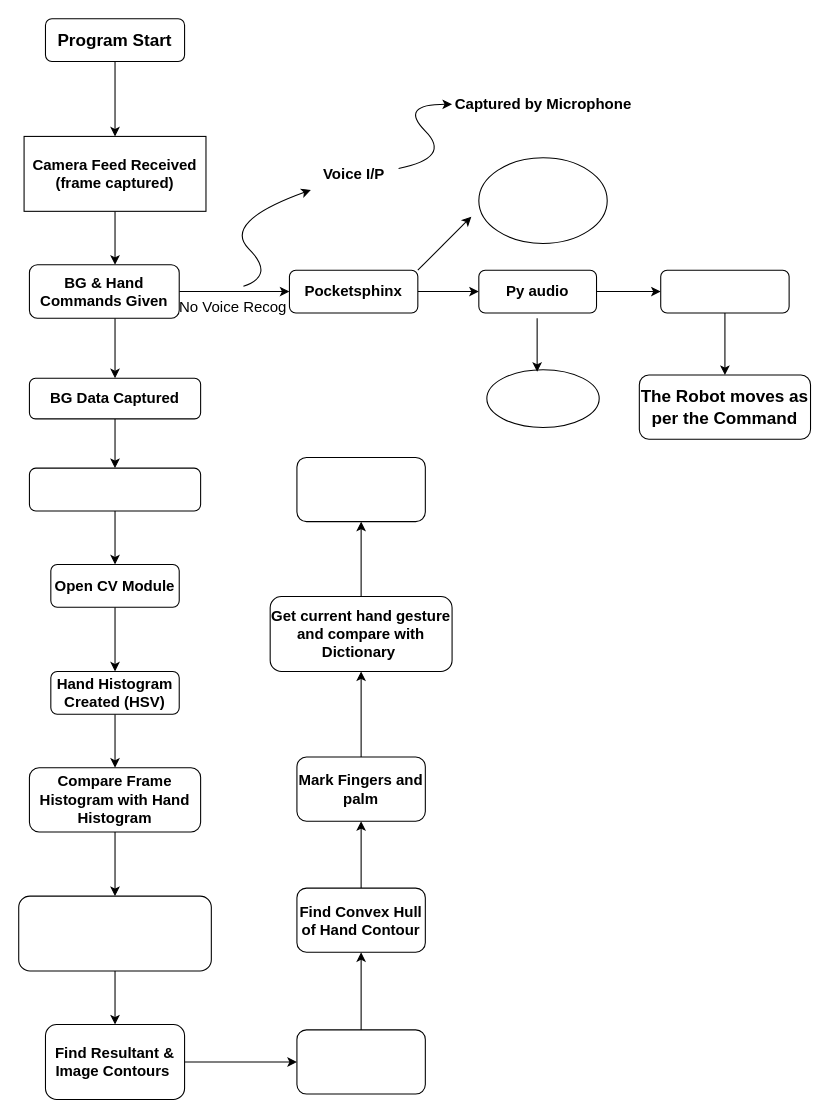
The diagram is 829 pixels wide and 1118 high, and some of its shapes have lost their labels. The centre of each missing label's shape, as x and y in pixels:
Apply Morphology and Threshold to separate region of Interest: the point at 114,933
Continuous Commands are Recognized: the point at 542,200
Display Result: the point at 360,489
Find Largest Hand Contour: the point at 360,1061
Hand Data Captured: the point at 114,489
Records all I/P: the point at 542,398
Sphinxbase: the point at 724,291
